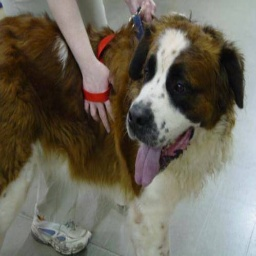dog: (0, 8, 246, 239)
